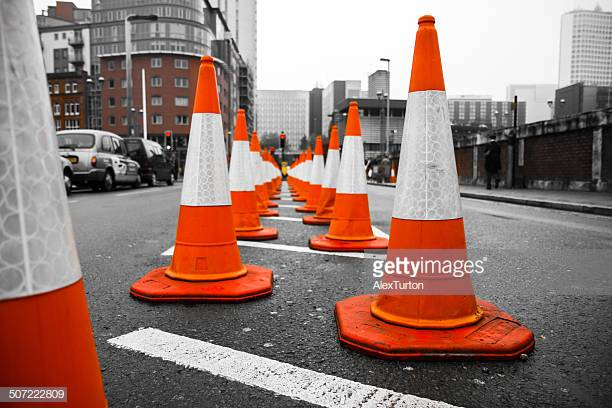cone: (334, 15, 535, 364), (129, 56, 274, 305), (306, 99, 393, 251), (201, 111, 279, 240), (303, 128, 354, 226), (225, 130, 280, 215), (296, 135, 334, 212)
